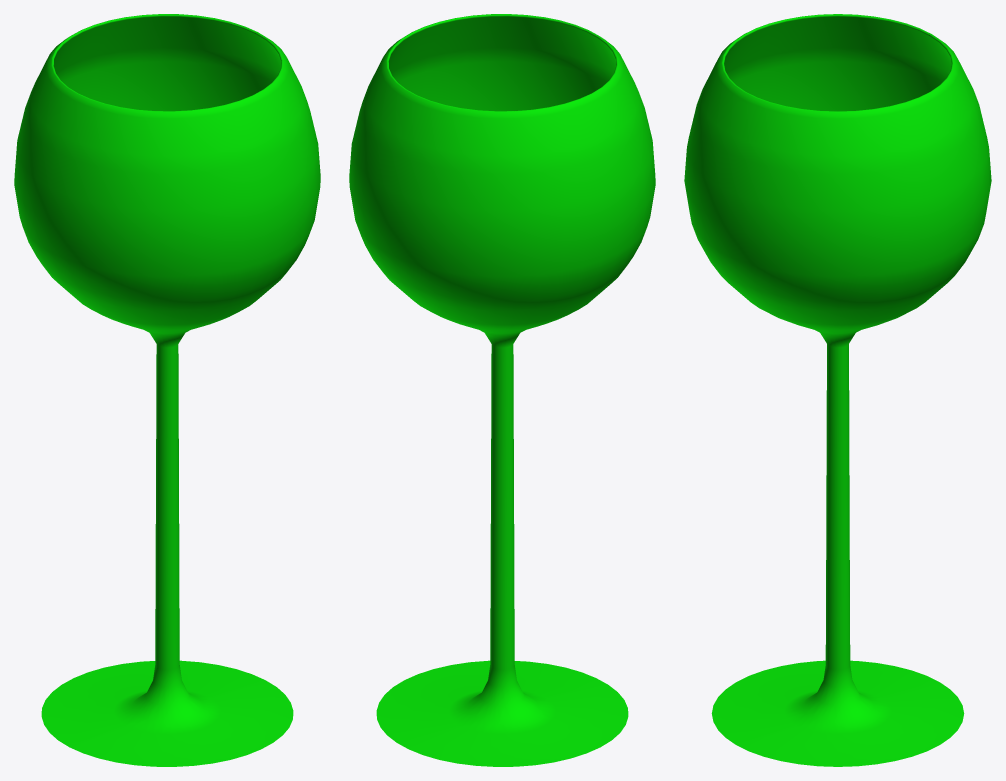
Rendered from Glass9_LOD_1.fbx.
3 renders of one model, left to right at view 1: azimuth 30°, elevation 25°; view 2: azimuth 150°, elevation 25°; view 3: azimuth 270°, elevation 25°, orthographic.
Visible parts, largest first — view 1: Glass9_LOD_1; view 2: Glass9_LOD_1; view 3: Glass9_LOD_1.
Part boxes in pixels (x1,y1,x2,y2): Glass9_LOD_1: (14, 14, 320, 766); Glass9_LOD_1: (349, 14, 655, 766); Glass9_LOD_1: (684, 14, 991, 766).
Size of the model in its own units: 2.15 by 5.06 by 2.15.
